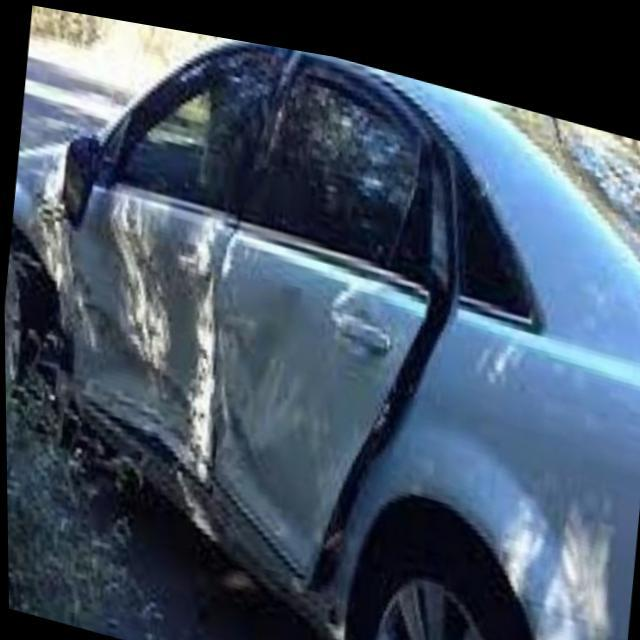dent: (55, 197, 233, 487)
glass shatter: (50, 38, 420, 265)
